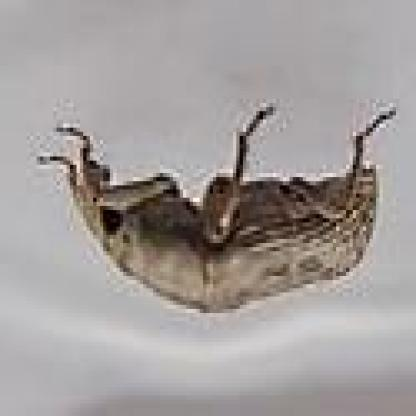rice-bug: (55, 117, 380, 318)
